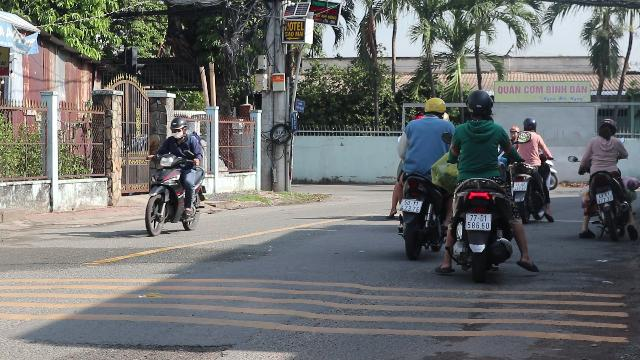helmet: (464, 88, 494, 122), (422, 97, 446, 117), (596, 118, 616, 138), (170, 117, 187, 137), (522, 116, 536, 132)
licenseplate: (466, 214, 490, 230), (398, 199, 422, 213), (596, 190, 612, 204)
motorcyclist: (445, 88, 531, 280), (385, 95, 455, 258), (140, 116, 208, 236), (576, 117, 632, 239), (510, 115, 554, 223)
